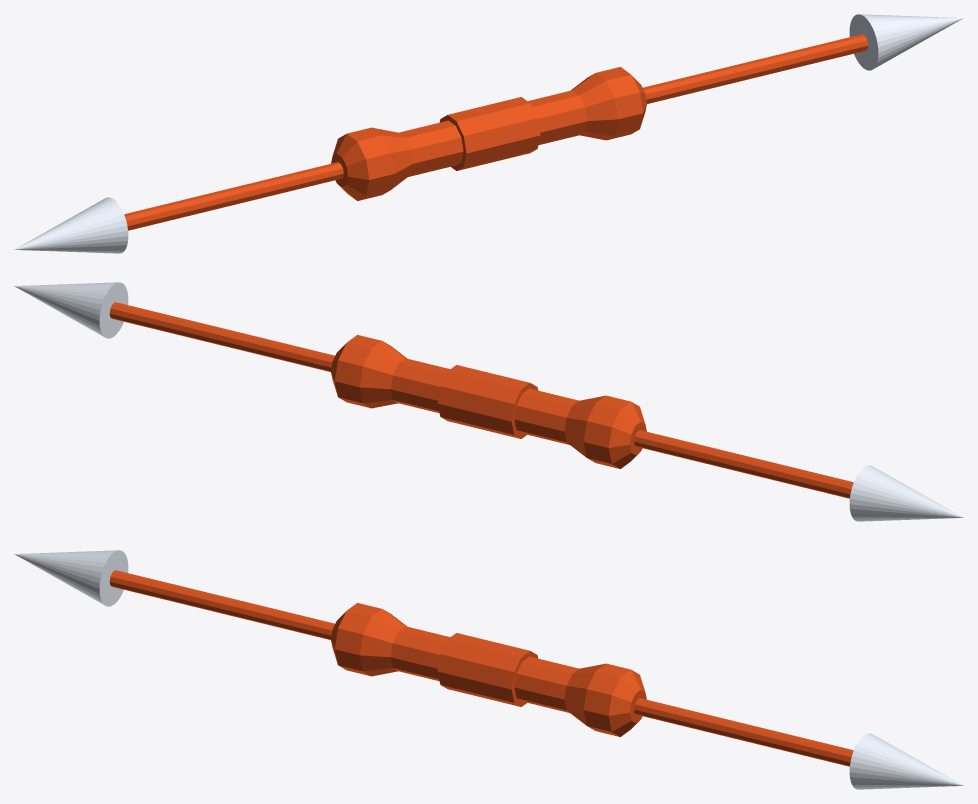
Rendered from Sword_Type2.fbx.
The picture shows the model from 3 angles, top to bottom: view 1: azimuth 30°, elevation 25°; view 2: azimuth 150°, elevation 25°; view 3: azimuth 330°, elevation 25°; orthographic projection.
Visible parts, largest first — view 1: Cylinder, Cone.001, Cone; view 2: Cylinder, Cone.001, Cone; view 3: Cylinder, Cone, Cone.001.
Part boxes in pixels (x1,y1,x2,y2): Cylinder: (124,34,868,230); Cone.001: (14,197,128,253); Cone: (849,14,963,70); Cylinder: (109,302,853,498); Cone.001: (849,465,963,521); Cone: (14,282,128,338); Cylinder: (109,570,853,766); Cone: (849,733,963,789); Cone.001: (14,550,128,606).
Bounding box in the file's own units: 3800 × 228 × 240.
